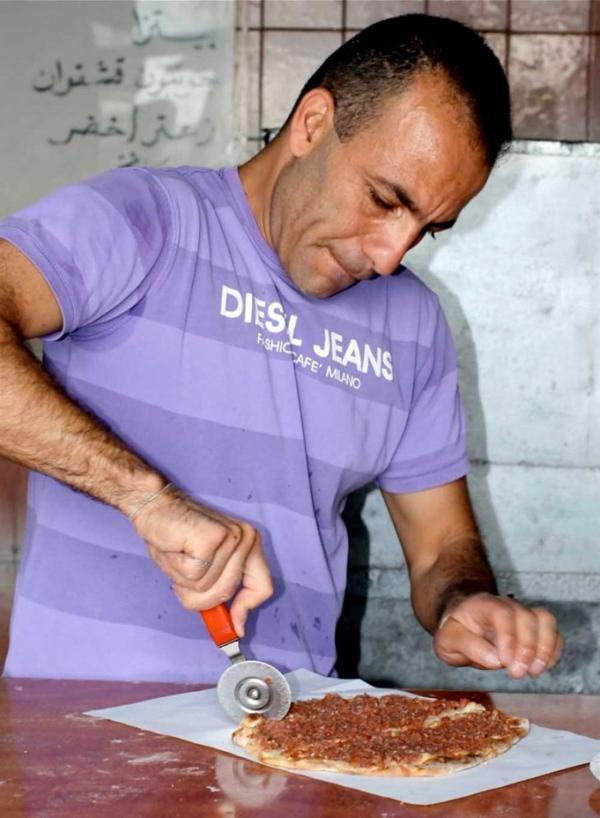person: (1, 13, 566, 690)
